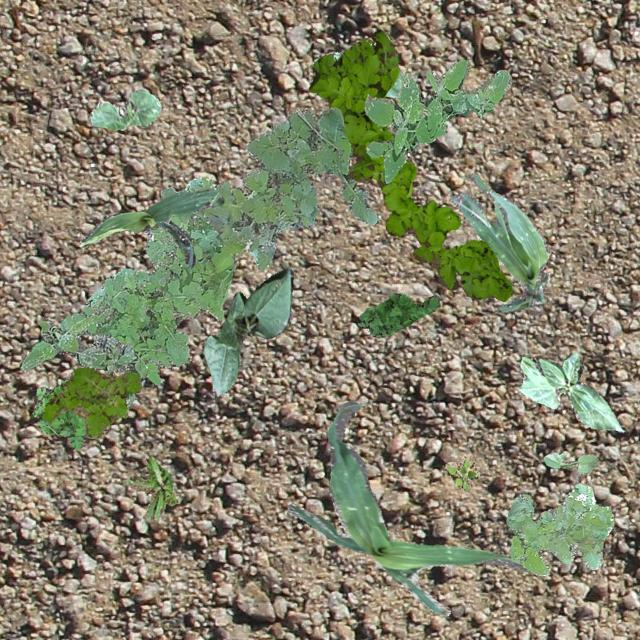crop: (286, 398, 532, 614), (449, 172, 548, 312), (202, 266, 292, 396), (78, 188, 222, 268), (518, 352, 624, 432), (312, 51, 402, 98), (88, 90, 160, 130), (542, 450, 598, 474)
weed: (308, 28, 512, 300), (58, 175, 235, 408), (160, 106, 378, 268), (364, 58, 511, 184), (506, 482, 612, 574), (19, 310, 141, 372), (41, 366, 140, 436), (354, 292, 438, 336), (31, 384, 86, 448), (126, 456, 176, 520), (444, 452, 478, 490)
